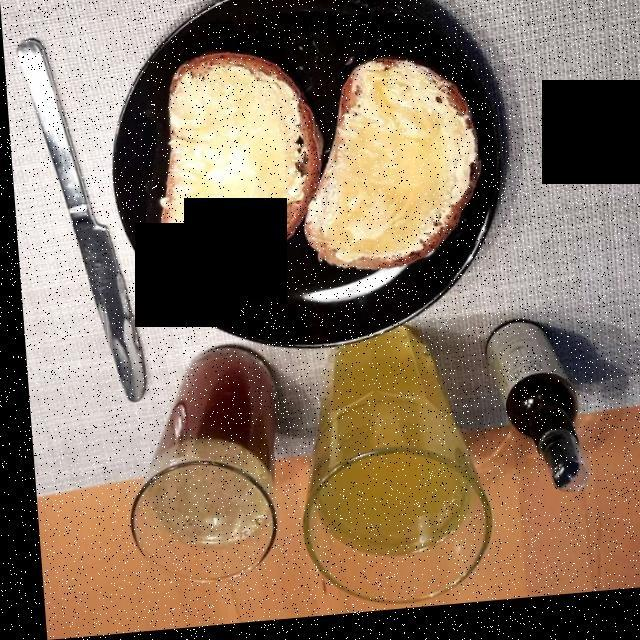bread: (157, 50, 460, 281)
honey: (179, 77, 464, 264)
